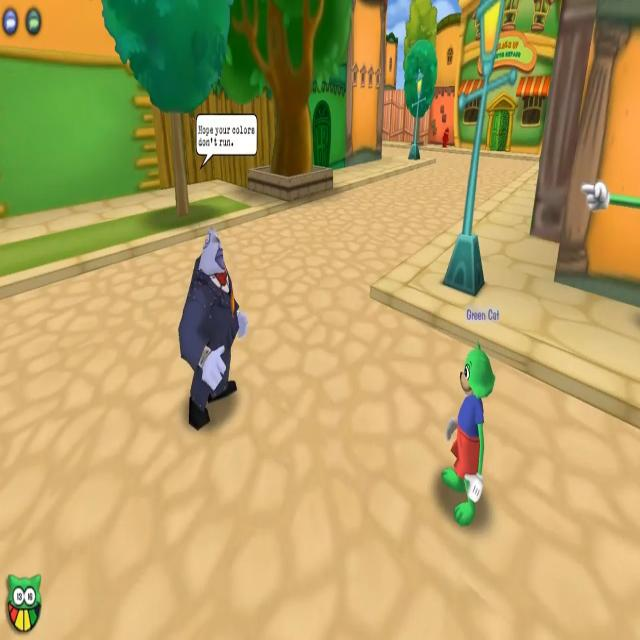bottomfeeder: (176, 108, 260, 433)
